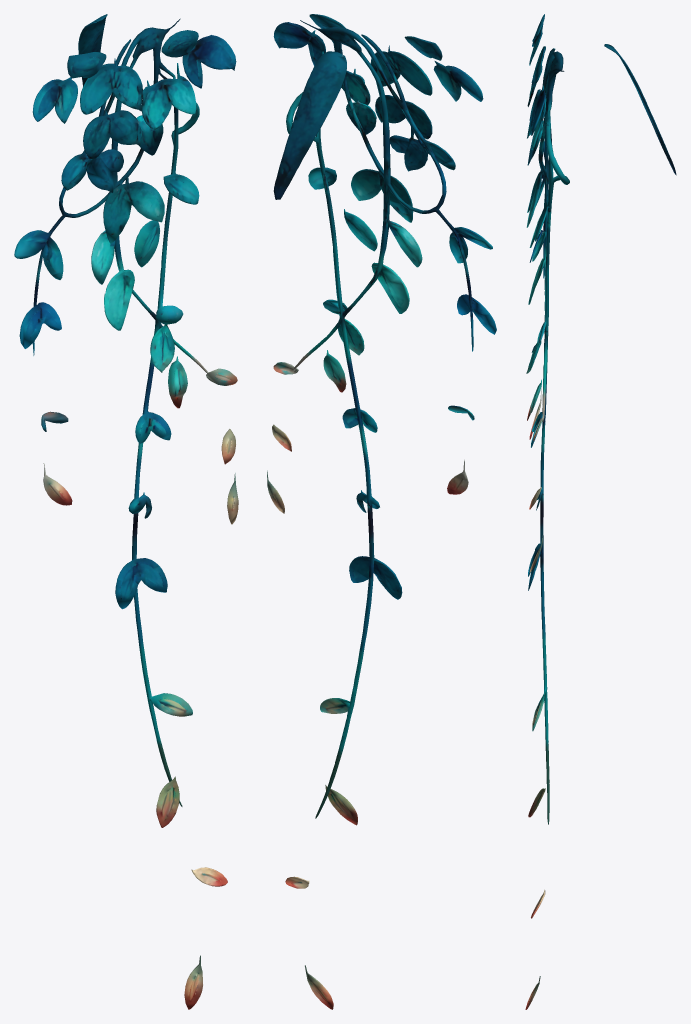
Rendered from chuitengcao.glb.
3 renders of one model, left to right at view 1: azimuth 30°, elevation 25°; view 2: azimuth 150°, elevation 25°; view 3: azimuth 270°, elevation 25°, orthographic. The views are drawn at different scales.
Visible parts, largest first — view 1: node_0; view 2: node_0; view 3: node_0.
Boxes of the visible parts, x1,y1,x2,y2 form: node_0: (14,14,238,1009); node_0: (267,14,496,1009); node_0: (525,14,676,1009).
Bounding box in the file's own units: 0.2752 × 1.16 × 0.1685.
1 material, 1 textured.
